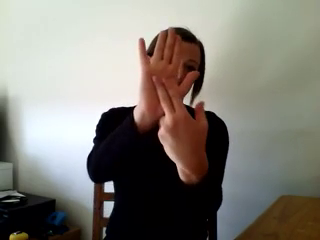N: (125, 24, 209, 172)
